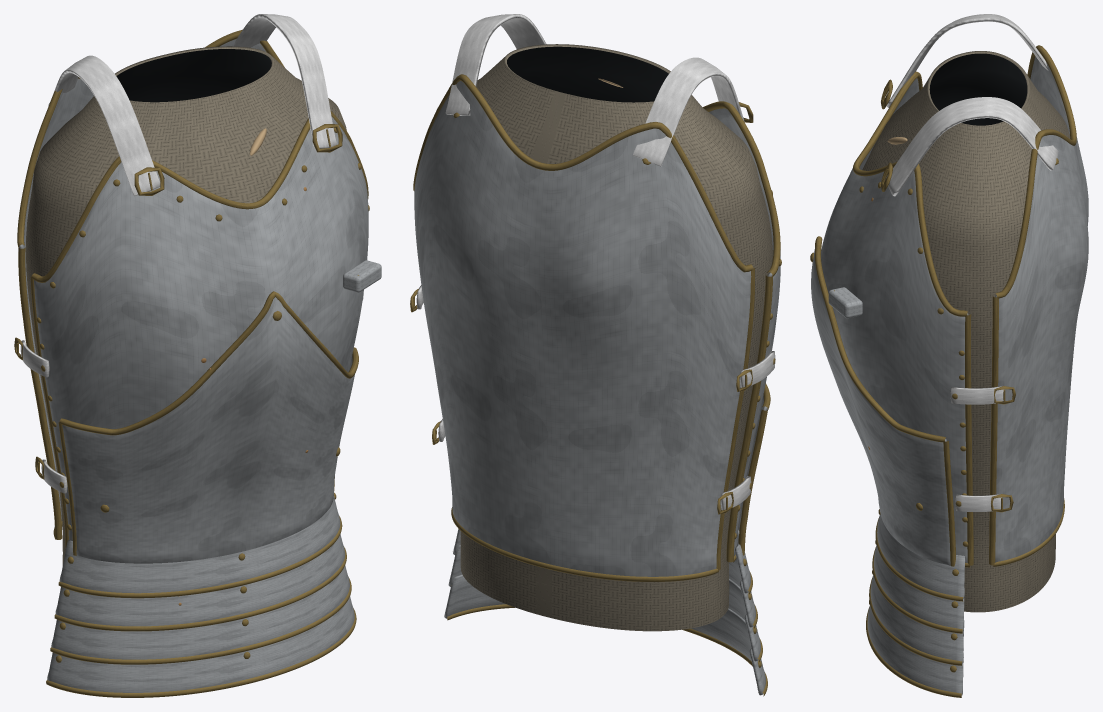
The picture shows the model from 3 angles, left to right: view 1: azimuth 30°, elevation 25°; view 2: azimuth 150°, elevation 25°; view 3: azimuth 270°, elevation 25°; orthographic projection. The views are drawn at different scales.
Parts seen in each view (by area): view 1: polished fluted plate, quilted linen lining, aged alloy edge, oiled strap leather, recess and lining; view 2: polished fluted plate, quilted linen lining, aged alloy edge, oiled strap leather, recess and lining; view 3: polished fluted plate, quilted linen lining, aged alloy edge, oiled strap leather, recess and lining.
Part boxes in pixels (left/top/right/bottom): polished fluted plate: left=18, top=39, right=381, bottom=692; quilted linen lining: left=26, top=46, right=346, bottom=565; aged alloy edge: left=14, top=29, right=369, bottom=697; oiled strap leather: left=20, top=14, right=363, bottom=493; recess and lining: left=116, top=49, right=271, bottom=102; polished fluted plate: left=414, top=80, right=780, bottom=695; quilted linen lining: left=460, top=44, right=772, bottom=631; aged alloy edge: left=410, top=74, right=781, bottom=696; oiled strap leather: left=416, top=14, right=775, bottom=510; recess and lining: left=507, top=46, right=668, bottom=102; polished fluted plate: left=811, top=56, right=1088, bottom=695; quilted linen lining: left=862, top=51, right=1070, bottom=612; aged alloy edge: left=810, top=45, right=1076, bottom=697; oiled strap leather: left=886, top=14, right=1058, bottom=511; recess and lining: left=929, top=53, right=1027, bottom=125.
Size of the model in its own units: 0.3926 by 0.6826 by 0.3021.
Materials: 7 (4 with a texture image).
